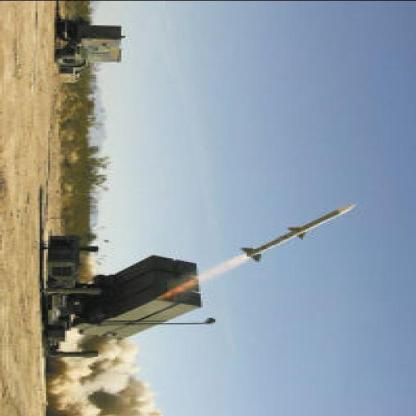MIL_TBM: (239, 192, 363, 265)
